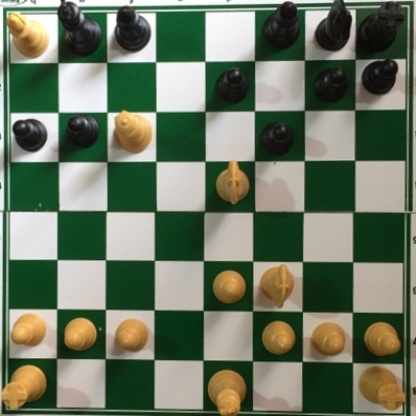black-bishop: (112, 1, 153, 53), (262, 1, 301, 49)
black-king: (57, 1, 103, 57)
black-knight: (315, 1, 353, 55)
black-pawn: (360, 56, 399, 96), (213, 65, 249, 104), (312, 66, 347, 105), (11, 118, 47, 154), (63, 114, 100, 149), (259, 119, 293, 157)
black-rook: (354, 1, 405, 54)
white-bishop: (6, 11, 52, 59)
white-king: (201, 366, 246, 416)
white-knight: (212, 159, 249, 208), (258, 263, 297, 309)
white-pawn: (358, 320, 401, 358), (9, 308, 48, 348), (111, 315, 151, 354), (258, 317, 297, 356), (61, 314, 101, 352), (309, 320, 347, 358), (211, 267, 247, 305)
white-queen: (111, 109, 154, 154)
white-rook: (354, 363, 405, 410), (1, 362, 49, 410)
